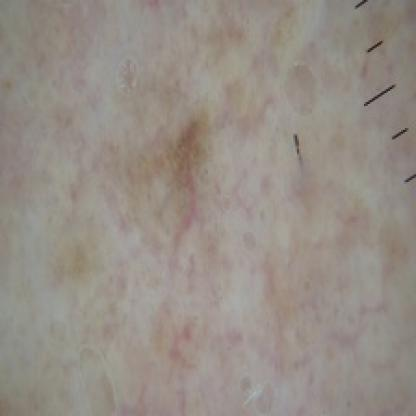malignant: (96, 91, 280, 260)
